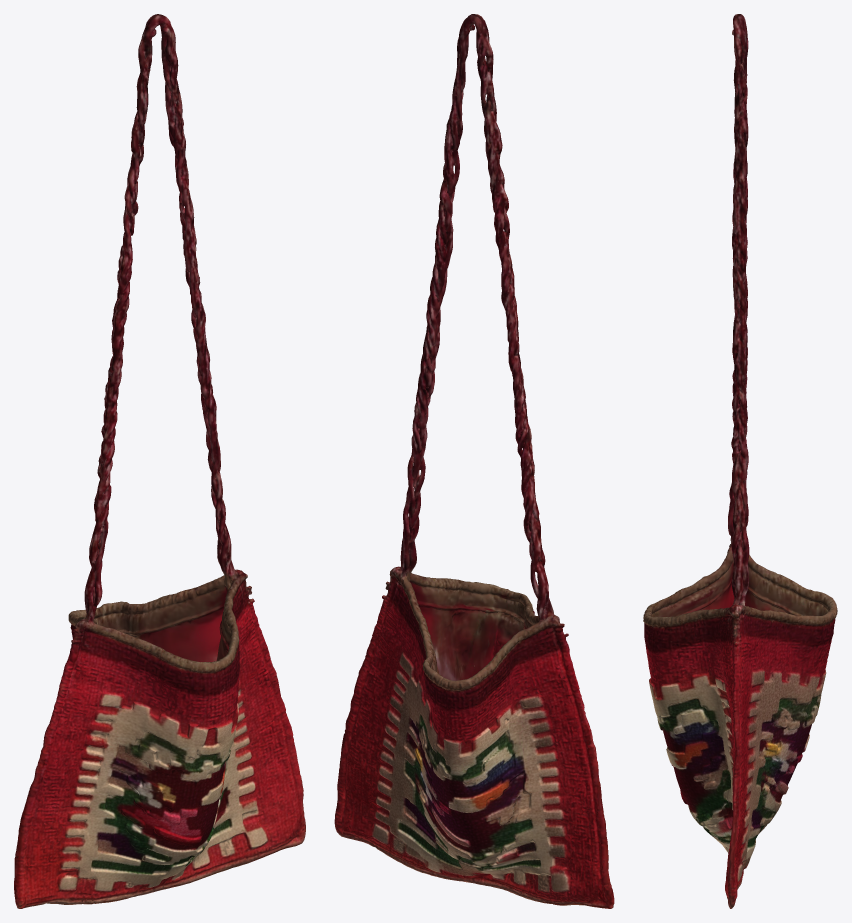
Rendered from torba.glb.
The picture shows the model from 3 angles, left to right: view 1: azimuth 30°, elevation 25°; view 2: azimuth 150°, elevation 25°; view 3: azimuth 270°, elevation 25°; orthographic projection. The views are drawn at different scales.
Bounding box in the file's own units: 0.6459 × 1.9 × 0.396.
1 material, 1 textured.
